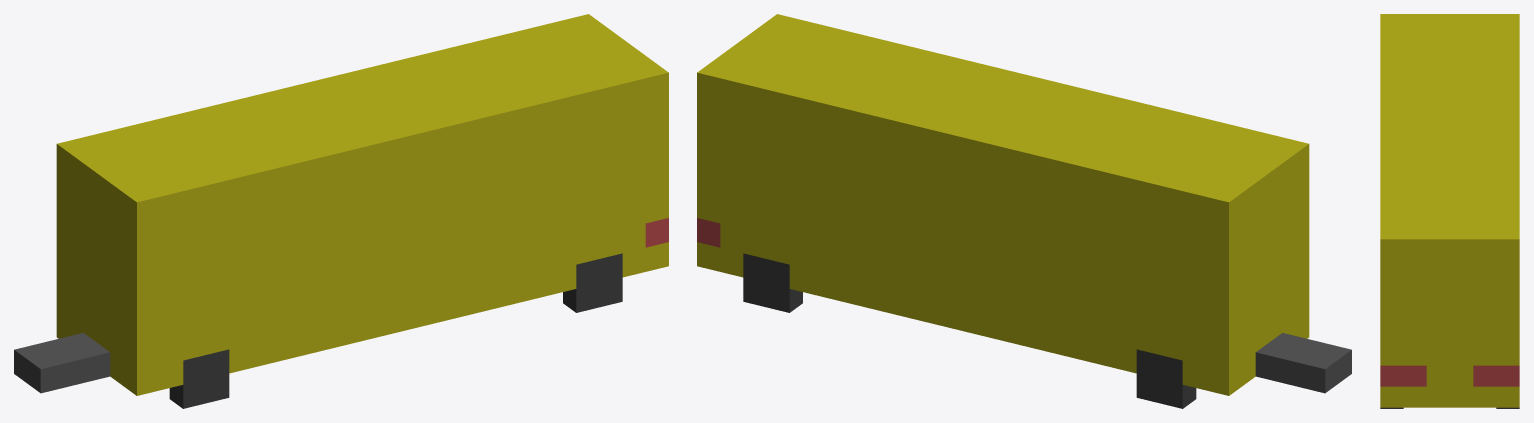
The model's file is truck-trailer-v1-yellow.gltf.
3 views of the same model, side by side, from view 1: azimuth 30°, elevation 25°; view 2: azimuth 150°, elevation 25°; view 3: azimuth 270°, elevation 25° (orthographic). The views are drawn at different scales.
Parts seen in each view (by area): view 1: model, wheels; view 2: model, wheels; view 3: model.
Part boxes in pixels (left/top/right/bottom): model: left=14, top=14, right=668, bottom=395; wheels: left=169, top=253, right=622, bottom=408; model: left=697, top=14, right=1351, bottom=395; wheels: left=743, top=253, right=1196, bottom=408; model: left=1380, top=14, right=1519, bottom=407.
Size of the model in its own units: 2.6 by 0.9 by 0.6.
2 materials, 2 textured.
